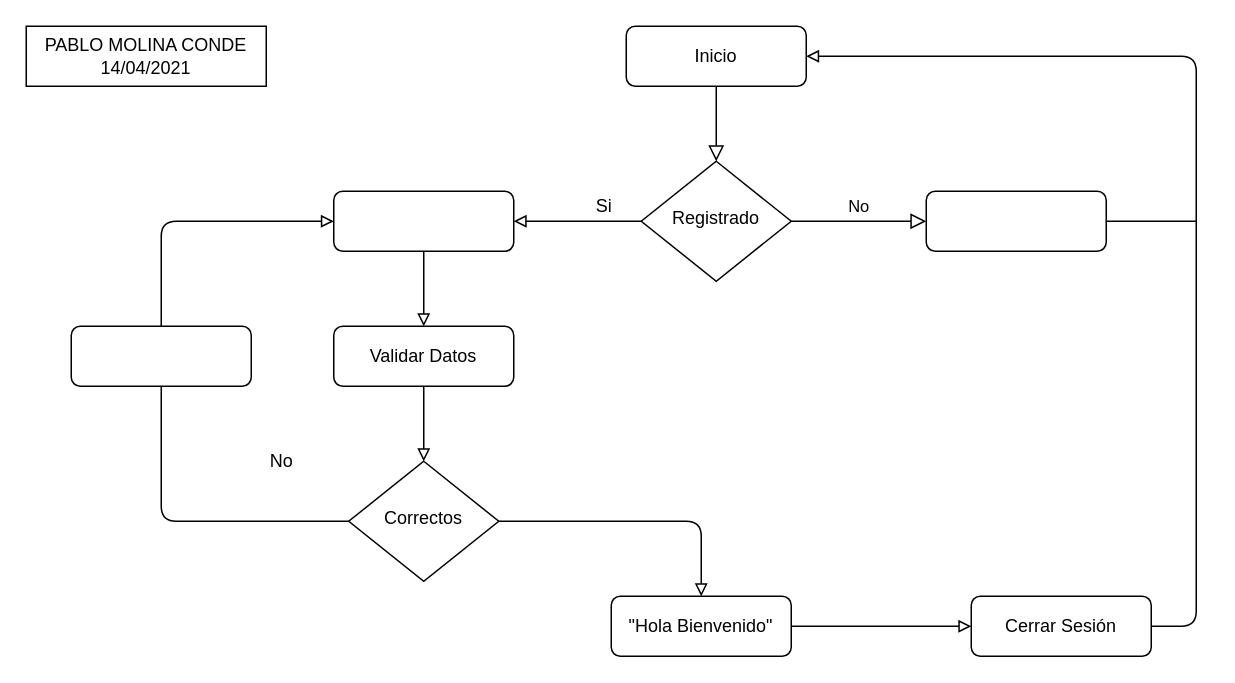
This 1235x683 diagram has some shape labels left out. Here are the shapes that lost their labels. From the top down, the box of each, then its label:
(332, 190, 514, 251): Usuario Contraseña
(925, 190, 1106, 251): Registrarse
(70, 325, 251, 386): "Usuario no reconocido"
